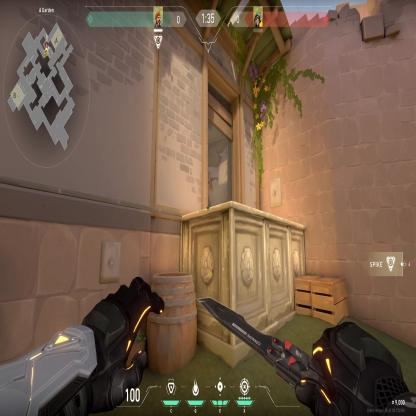enemy: (207, 168, 214, 209)
